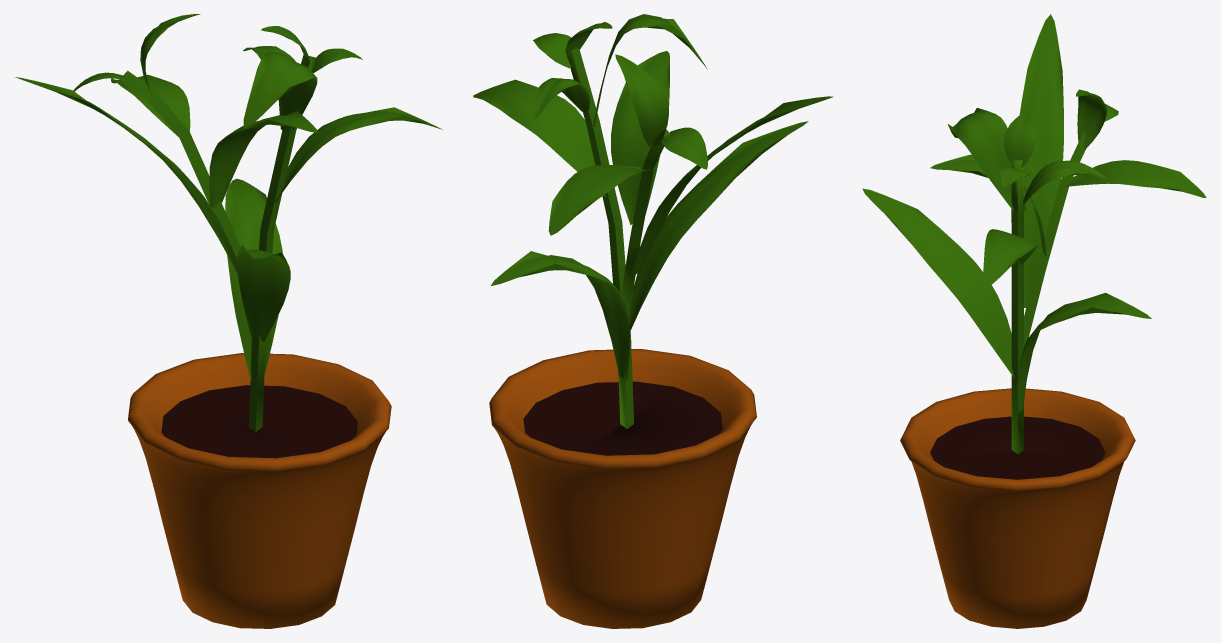
File: plant.obj
3 views of the same model, side by side, from view 1: azimuth 30°, elevation 25°; view 2: azimuth 150°, elevation 25°; view 3: azimuth 270°, elevation 25° (orthographic). The views are drawn at different scales.
Visible parts, largest first — view 1: Pot_1, Terre_2, Tube_1_3, Tube_2_4, Feuille_12_17, Feuille_5_10, Feuille_8_13, Feuille_16_21, Feuille_13_18, Feuille_4_9, Feuille_1_6, Feuille_20_25 (+6 smaller); view 2: Pot_1, Terre_2, Tube_1_3, Feuille_5_10, Feuille_13_18, Feuille_14_19, Feuille_20_25, Feuille_6_11, Tube_2_4, Feuille_12_17, Feuille_4_9, Feuille_1_6 (+12 smaller); view 3: Pot_1, Terre_2, Feuille_5, Feuille_13_18, Feuille_5_10, Feuille_19_24, Tube_1_3, Tube_2_4, Feuille_16_21, Feuille_8_13, Feuille_4_9, Feuille_21_26 (+11 smaller).
Part boxes in pixels (x1,y1,x2,y2): Pot_1: [128, 353, 391, 628]; Terre_2: [161, 385, 357, 458]; Tube_1_3: [249, 54, 316, 431]; Tube_2_4: [121, 70, 240, 257]; Feuille_12_17: [225, 179, 278, 377]; Feuille_5_10: [241, 249, 290, 339]; Feuille_8_13: [243, 51, 317, 130]; Feuille_16_21: [244, 61, 316, 130]; Feuille_13_18: [236, 245, 283, 341]; Feuille_4_9: [235, 179, 282, 380]; Feuille_1_6: [209, 117, 316, 207]; Feuille_20_25: [209, 111, 317, 202]; Pot_1: [489, 349, 756, 628]; Terre_2: [523, 381, 722, 455]; Tube_1_3: [565, 48, 633, 428]; Feuille_5_10: [629, 121, 808, 332]; Feuille_13_18: [629, 121, 807, 331]; Feuille_14_19: [473, 91, 595, 167]; Feuille_20_25: [611, 51, 669, 225]; Feuille_6_11: [475, 79, 605, 196]; Tube_2_4: [621, 129, 670, 310]; Feuille_12_17: [491, 259, 629, 379]; Feuille_4_9: [491, 251, 629, 376]; Feuille_1_6: [617, 51, 669, 225]; Pot_1: [900, 388, 1135, 628]; Terre_2: [930, 416, 1105, 479]; Feuille_5: [1024, 14, 1063, 307]; Feuille_13_18: [862, 189, 1011, 363]; Feuille_5_10: [863, 188, 1014, 377]; Feuille_19_24: [1011, 14, 1050, 307]; Tube_1_3: [1011, 159, 1023, 453]; Tube_2_4: [1015, 131, 1085, 353]; Feuille_16_21: [948, 117, 1026, 210]; Feuille_8_13: [948, 108, 1013, 211]; Feuille_4_9: [1017, 303, 1151, 412]; Feuille_21_26: [1064, 160, 1206, 197].
Bounding box in the file's own units: 58.42 × 81.28 × 50.8.
